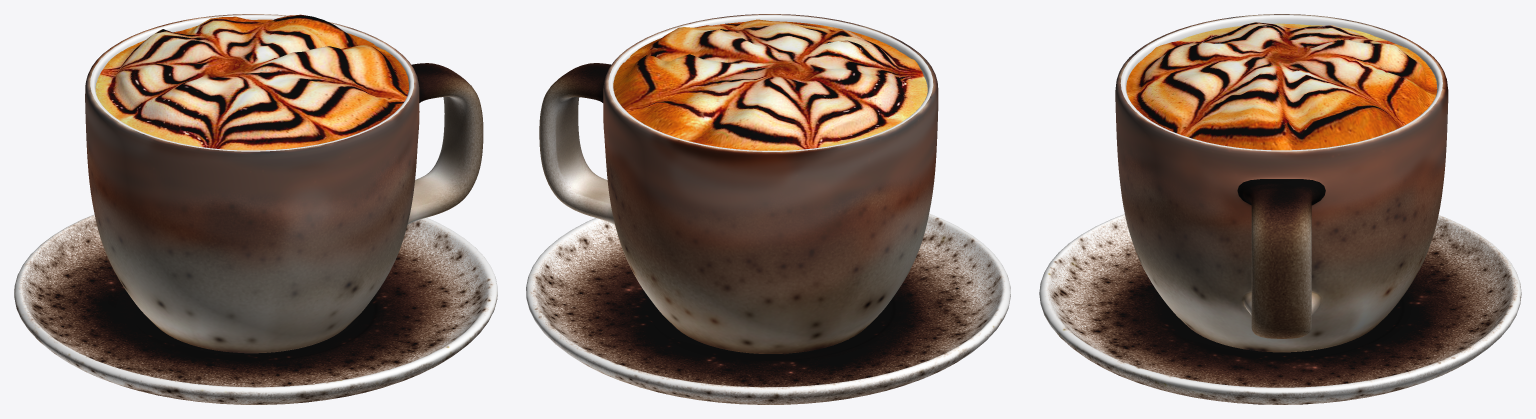
3 renders of one model, left to right at view 1: azimuth 30°, elevation 25°; view 2: azimuth 150°, elevation 25°; view 3: azimuth 270°, elevation 25°, orthographic.
Visible parts, largest first — view 1: cup_15, plate_16, cappuccino_14; view 2: cup_15, plate_16, cappuccino_14; view 3: cup_15, plate_16, cappuccino_14.
Boxes of the visible parts, box(x1,y1,x2,y2) form: cup_15: box(85, 14, 483, 353); plate_16: box(14, 214, 497, 404); cappuccino_14: box(95, 14, 408, 150); cup_15: box(539, 14, 938, 353); plate_16: box(526, 213, 1010, 404); cappuccino_14: box(613, 19, 927, 150); cup_15: box(1115, 14, 1448, 352); plate_16: box(1039, 214, 1521, 404); cappuccino_14: box(1126, 22, 1437, 150).
Size of the model in its own units: 0.1635 by 0.096 by 0.16.
3 materials, 3 textured.
